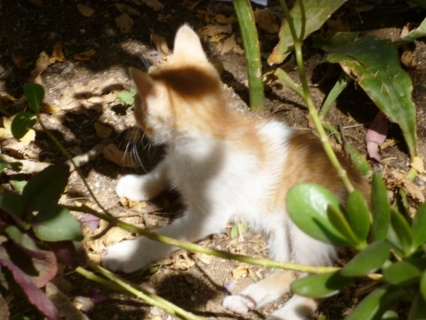Cat: (97, 21, 406, 319)
